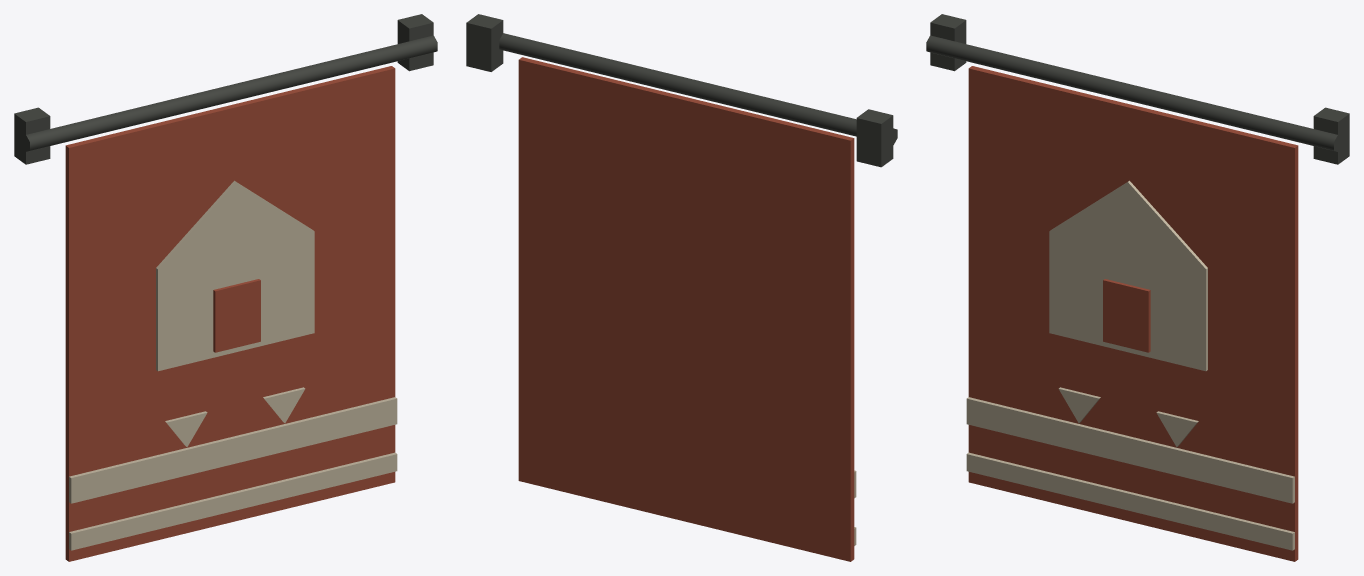
The model's file is sign_cloth.glb.
The picture shows the model from 3 angles, left to right: view 1: azimuth 30°, elevation 25°; view 2: azimuth 150°, elevation 25°; view 3: azimuth 330°, elevation 25°; orthographic projection.
Visible parts, largest first — view 1: sign_cloth; view 2: sign_cloth; view 3: sign_cloth.
Boxes of the visible parts, x1,y1,x2,y2 form: sign_cloth: (14, 14, 437, 561); sign_cloth: (466, 14, 897, 561); sign_cloth: (926, 14, 1349, 561).
Size of the model in its own units: 1 by 1.05 by 0.085.
